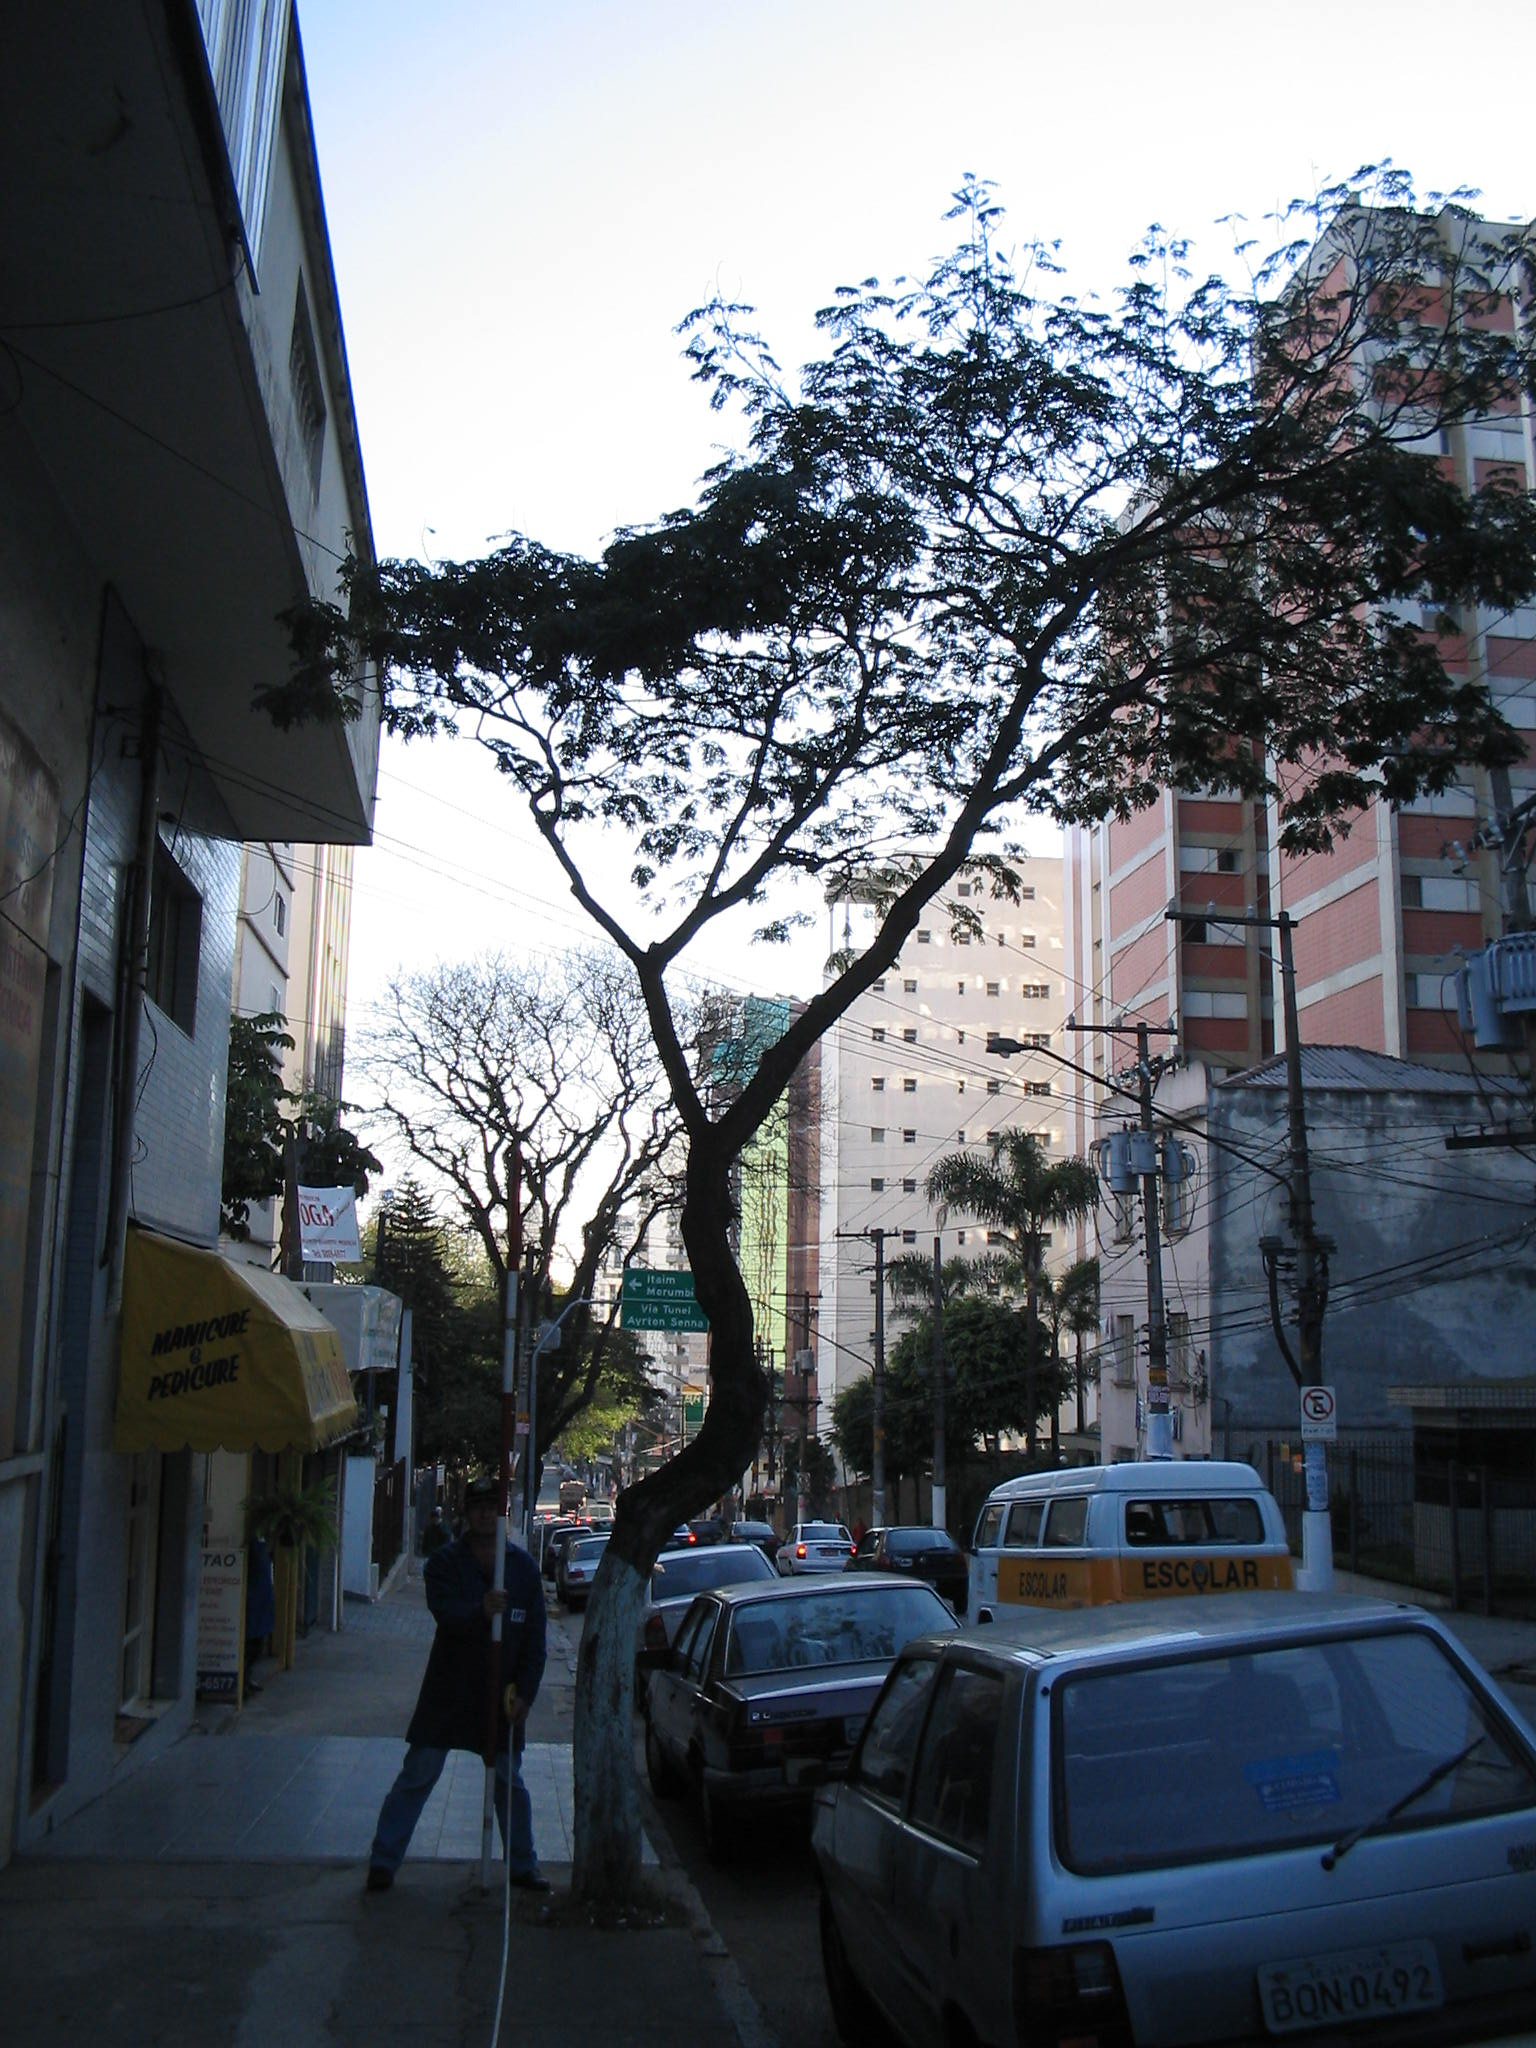crown: (295, 184, 1520, 929)
stem: (553, 1129, 799, 1916)
stick: (452, 1153, 561, 1901)
tree: (286, 176, 1521, 1921), (311, 942, 686, 1487)
